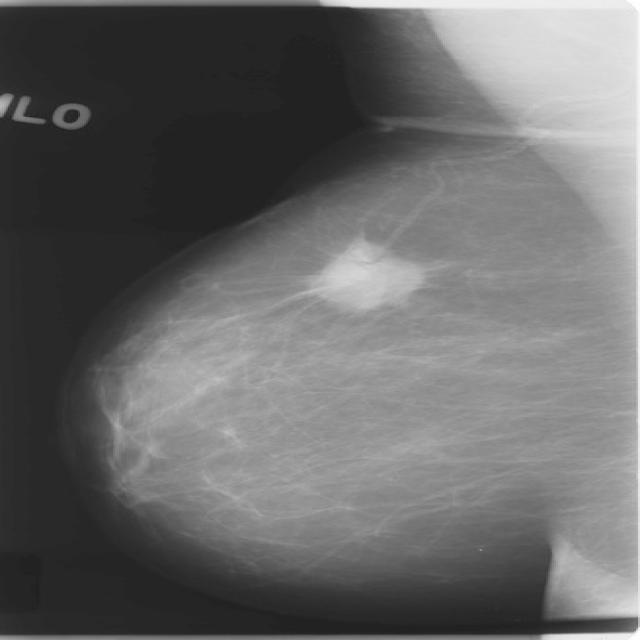tumour: (308, 236, 424, 310)
